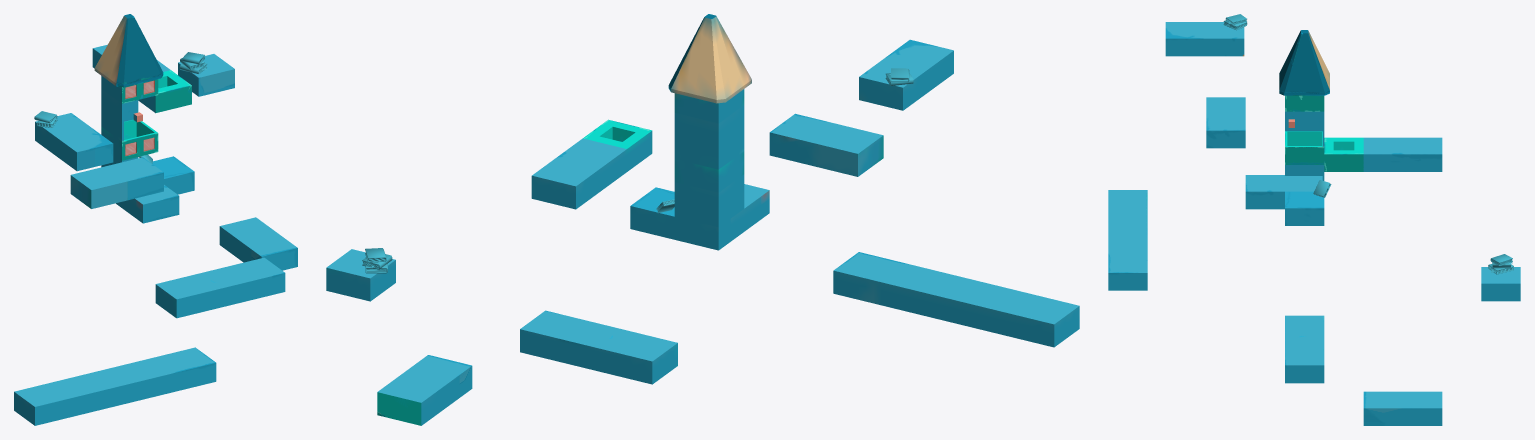
Rendered from level2_StaticSATURATED.fbx.
3 renders of one model, left to right at view 1: azimuth 30°, elevation 25°; view 2: azimuth 150°, elevation 25°; view 3: azimuth 270°, elevation 25°, orthographic. The views are drawn at different scales.
Visible parts, largest first — view 1: StaticPiece; view 2: StaticPiece; view 3: StaticPiece.
Part boxes in pixels (x1=…): StaticPiece: x1=14, y1=14, x2=297, y2=425; StaticPiece: x1=326, y1=14, x2=1079, y2=425; StaticPiece: x1=1108, y1=14, x2=1520, y2=425.
Size of the model in its own units: 22 by 17 by 21.
Materials: 1 (1 with a texture image).
